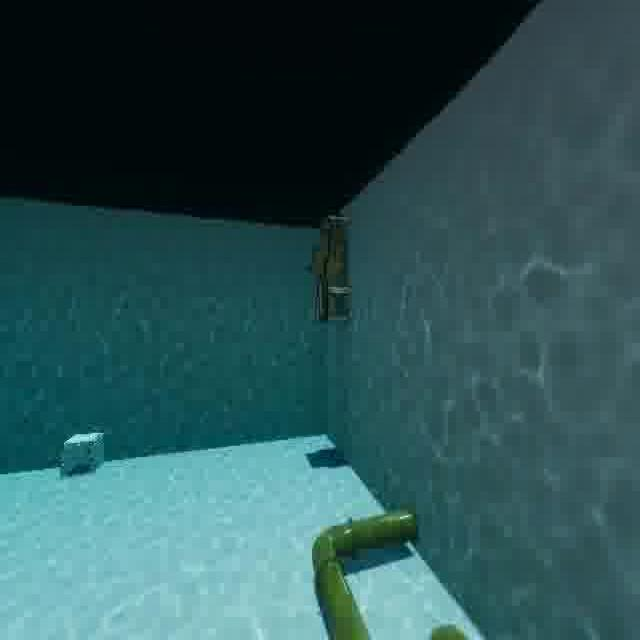Control Panel: (299, 204, 360, 334)
Docking Station: (58, 422, 107, 484)
Pipe: (302, 493, 484, 640)
